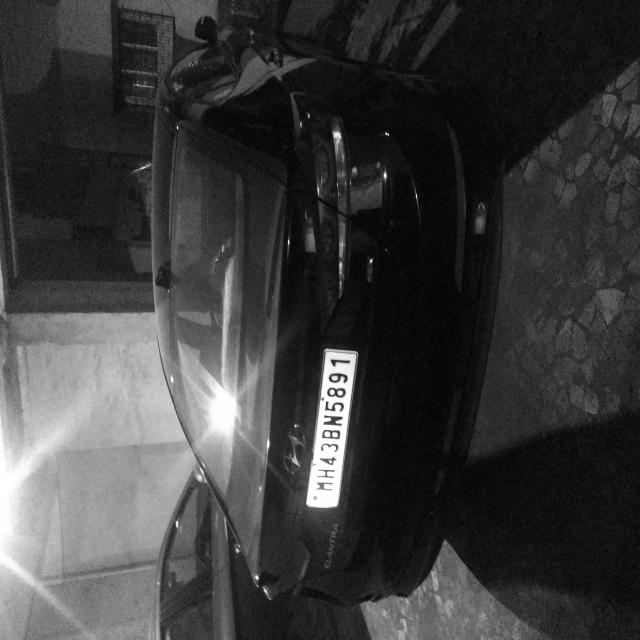car: (20, 188, 480, 640)
license-plate: (94, 406, 220, 484)
